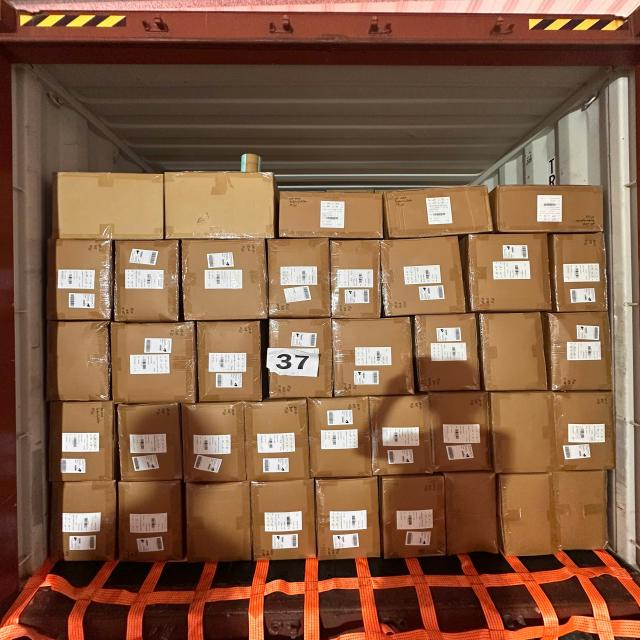Carton: (162, 166, 270, 237), (60, 167, 166, 237), (181, 241, 267, 325), (110, 323, 195, 404), (384, 240, 466, 320), (467, 234, 549, 314), (333, 317, 414, 397), (381, 184, 496, 240), (47, 399, 116, 482), (275, 186, 383, 238), (119, 483, 185, 568), (195, 320, 262, 403), (478, 311, 547, 391), (185, 482, 252, 564), (267, 317, 334, 399), (547, 313, 615, 393), (318, 477, 382, 562), (50, 481, 116, 563), (117, 242, 181, 326), (382, 478, 446, 562), (311, 397, 375, 480), (117, 404, 183, 484), (183, 402, 248, 483), (254, 483, 318, 565), (247, 399, 311, 481), (371, 393, 435, 475), (497, 185, 604, 234), (413, 312, 479, 391), (268, 240, 331, 322), (50, 240, 113, 322), (491, 390, 554, 472), (50, 322, 112, 404), (431, 389, 490, 472), (554, 390, 615, 470), (503, 475, 559, 561), (448, 474, 502, 560), (553, 474, 609, 554), (553, 232, 608, 312), (614, 419, 640, 575), (332, 240, 382, 320), (611, 304, 640, 428)
